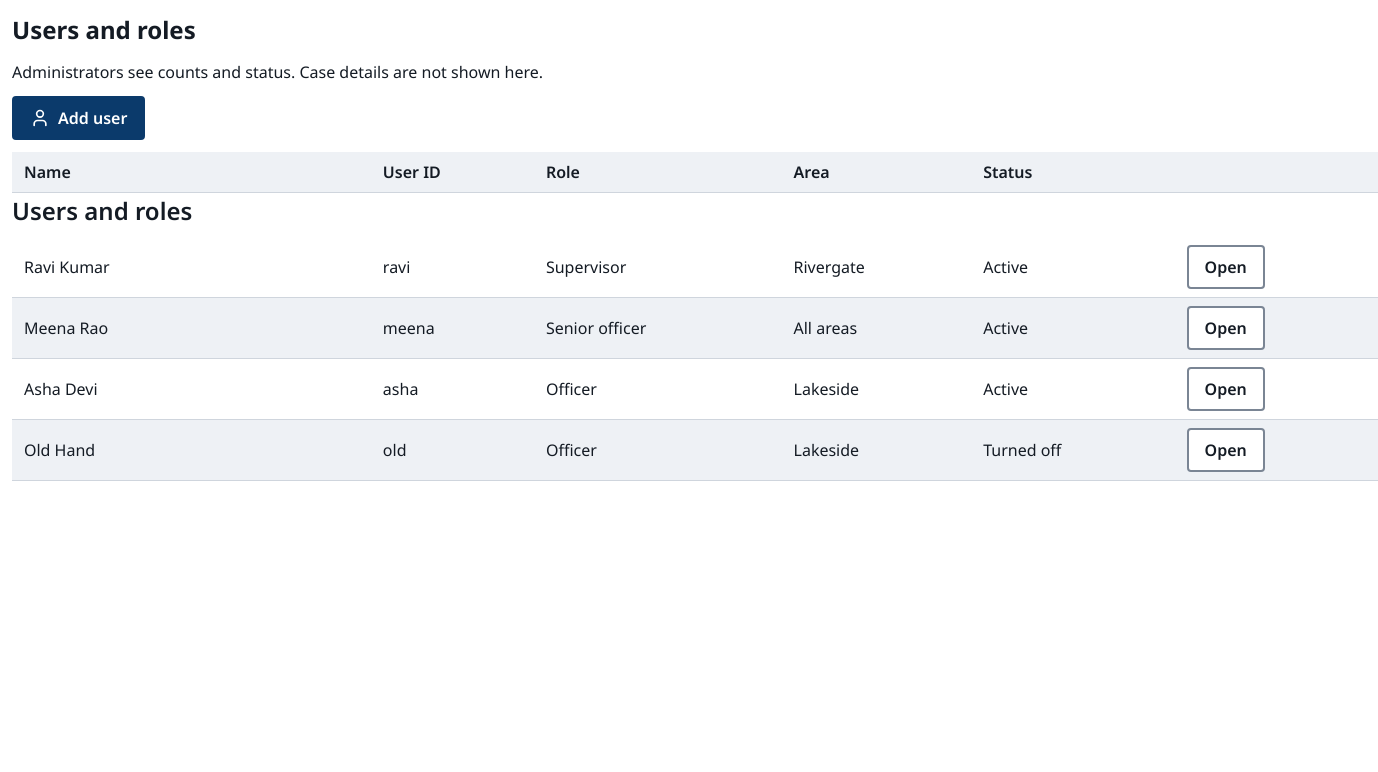
Scenario: the form is built from the fresh read, not from the list row (stale coverage is not sent back)
Click the button "Open" in the row of "Meena Rao": (1226, 328) [1187,306,1265,350]
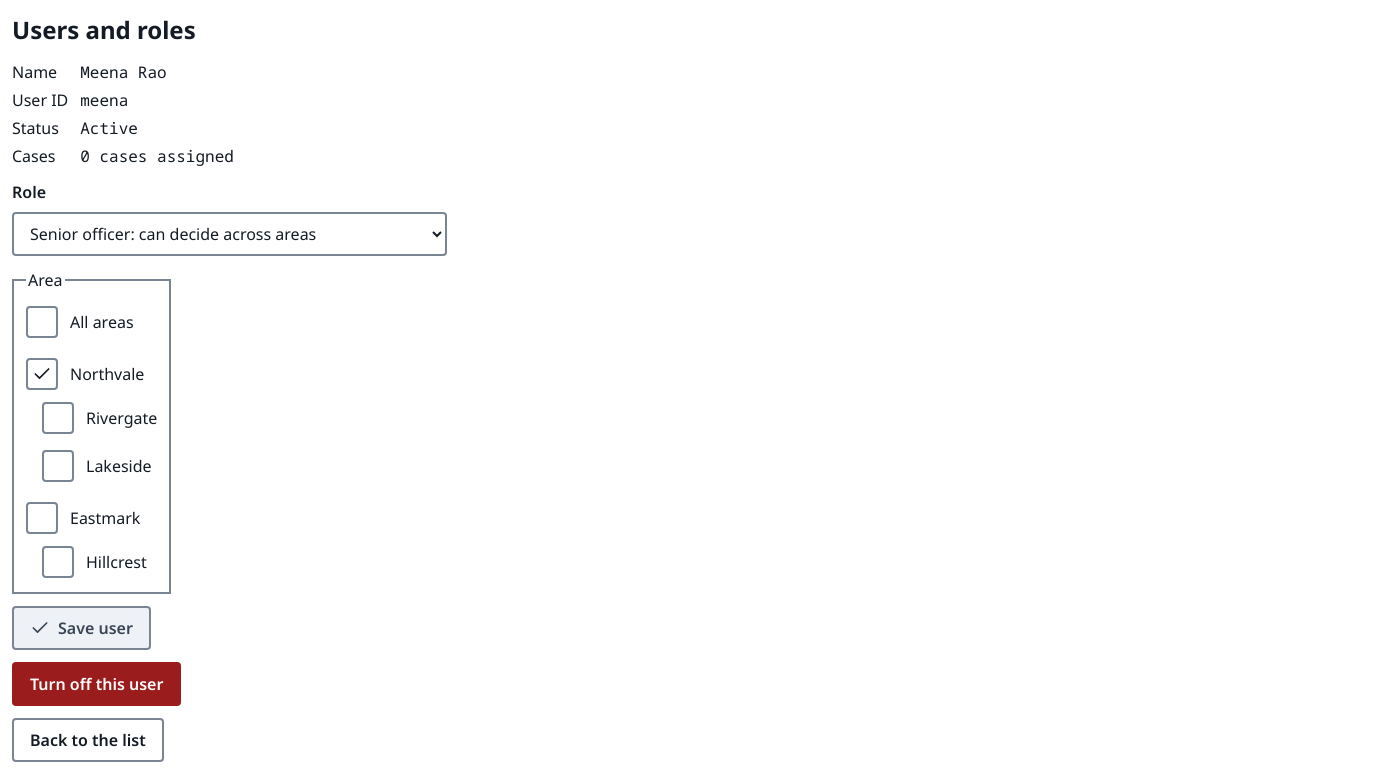
Now the button "Back to the list" is shown, box [12,718,164,762]
Now the checkbox labelled "All areas" is not checked, box [26,306,134,338]
Now the checkbox labelled "Northvale" is checked, box [26,352,157,396]
Click the checkbox labelled "Hillcrest": (100, 562) [42,540,157,584]
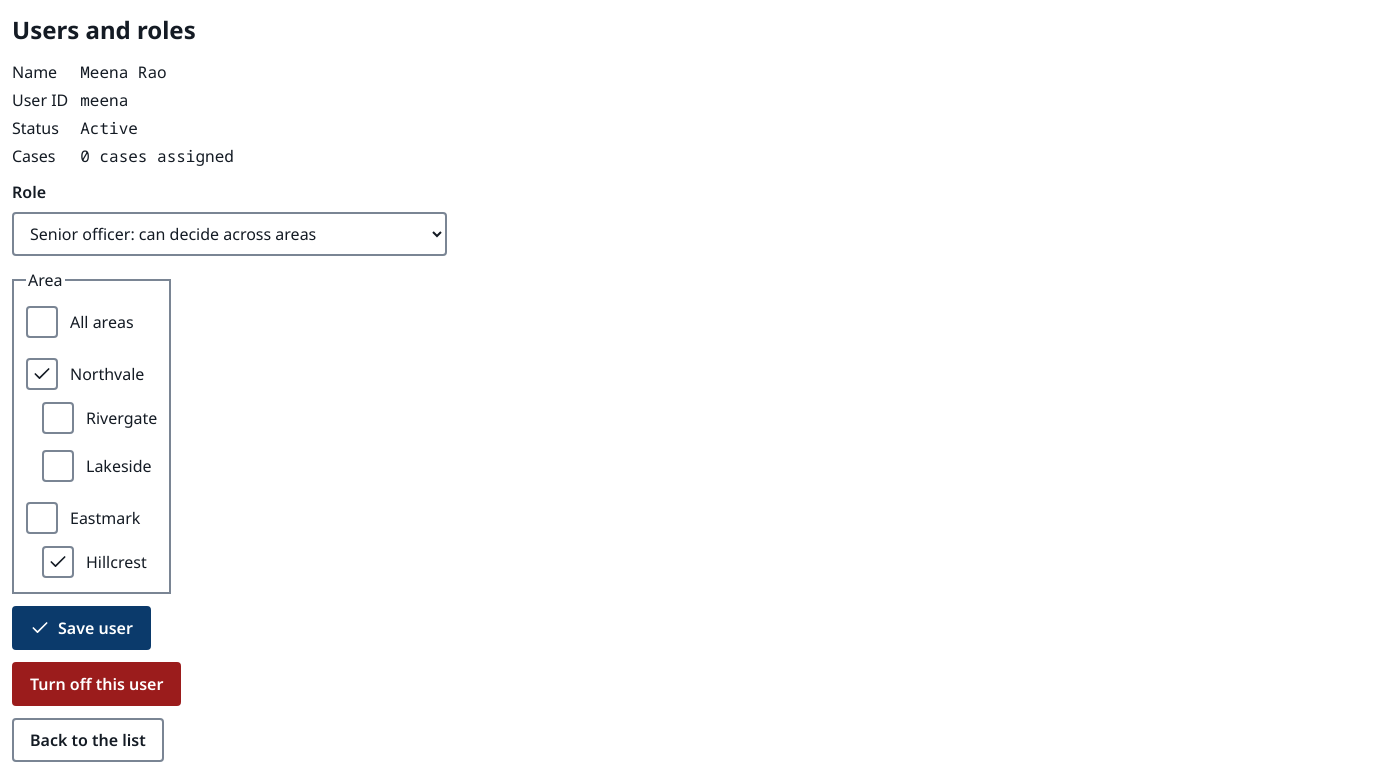
Click the button "Save user": (81, 628) [12,606,151,650]
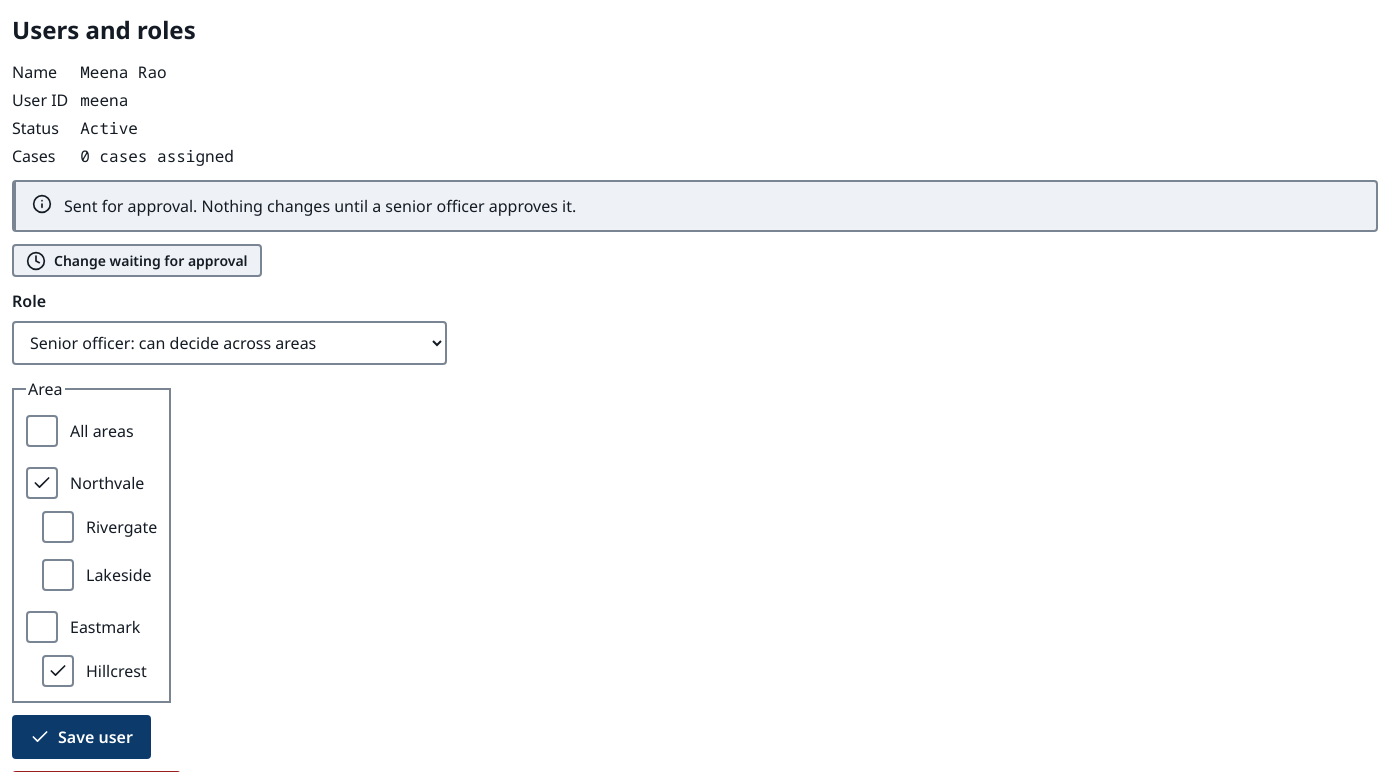
Now the text "Sent for approval. Nothing changes until a senior officer approves it." is shown, box [64,195,576,217]
